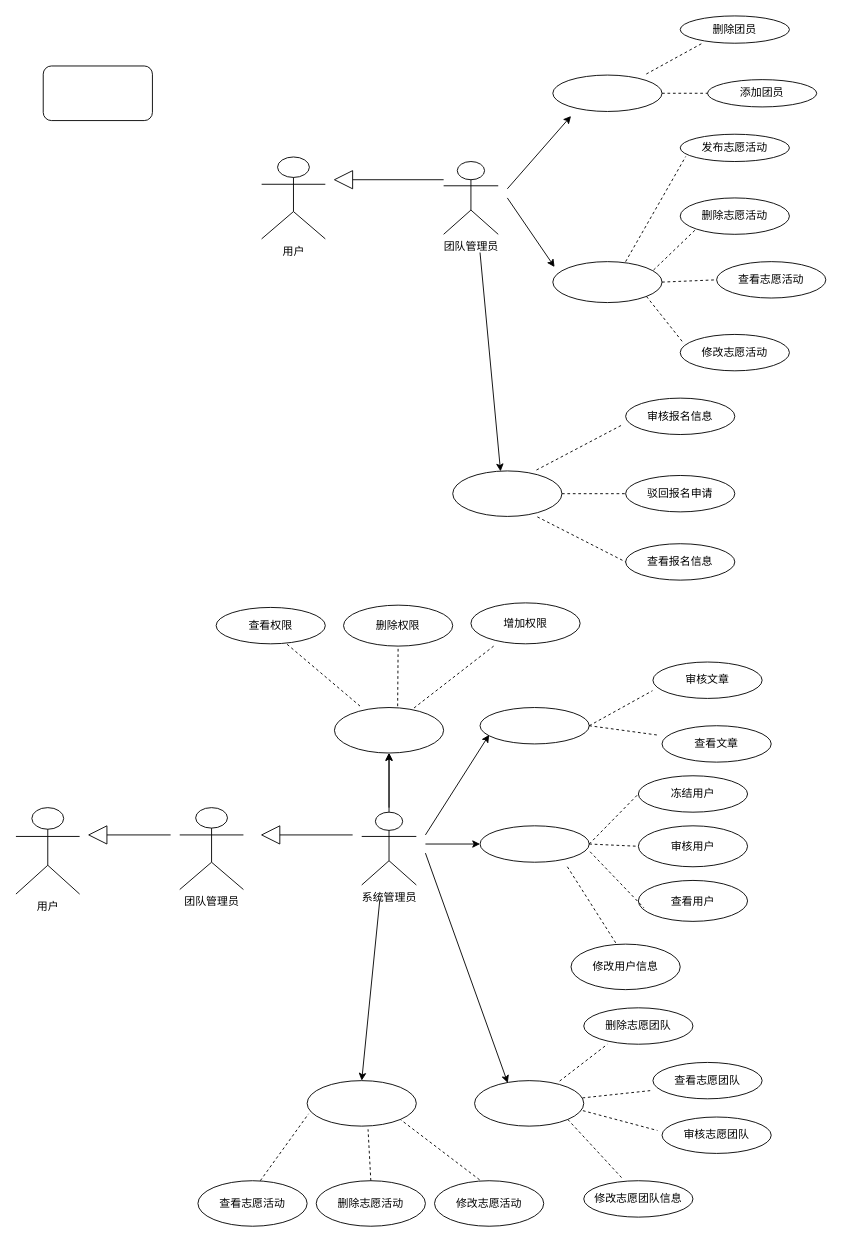
Image size: 842x1242. Some labels were removed from this diagram. Each missing label, with the centre of its shape:
操作志愿活动: (607,282)
管理团员: (607,92)
管理志愿团队: (529,1103)
管理志愿活动: (361,1103)
管理文章: (534,725)
管理权限(角色): (389,730)
管理活动报名: (507,493)
管理用户: (534,843)
